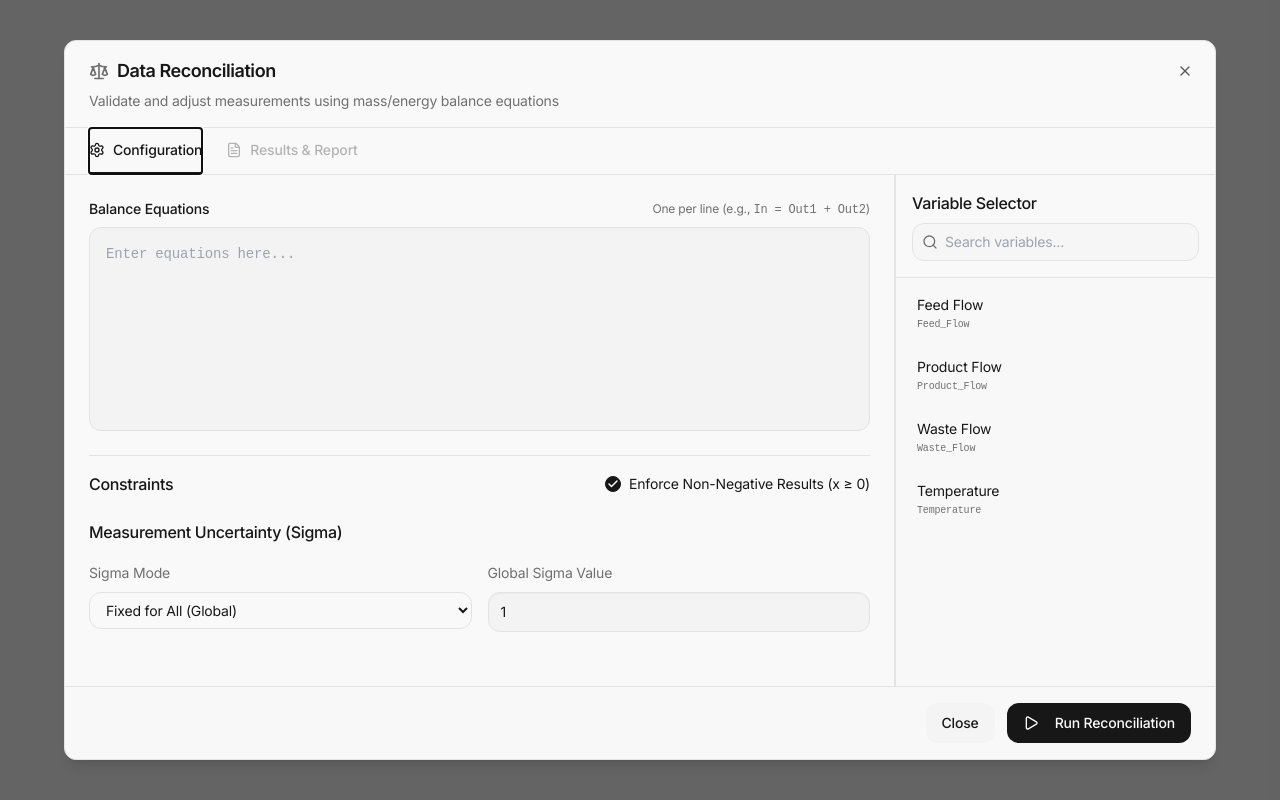
Test: ReconciliationModal › filters variables when using search
Type "Feed" into the field with placeholder "Search variables..." at {"x": 1056, "y": 242}, box [912,223,1199,261]
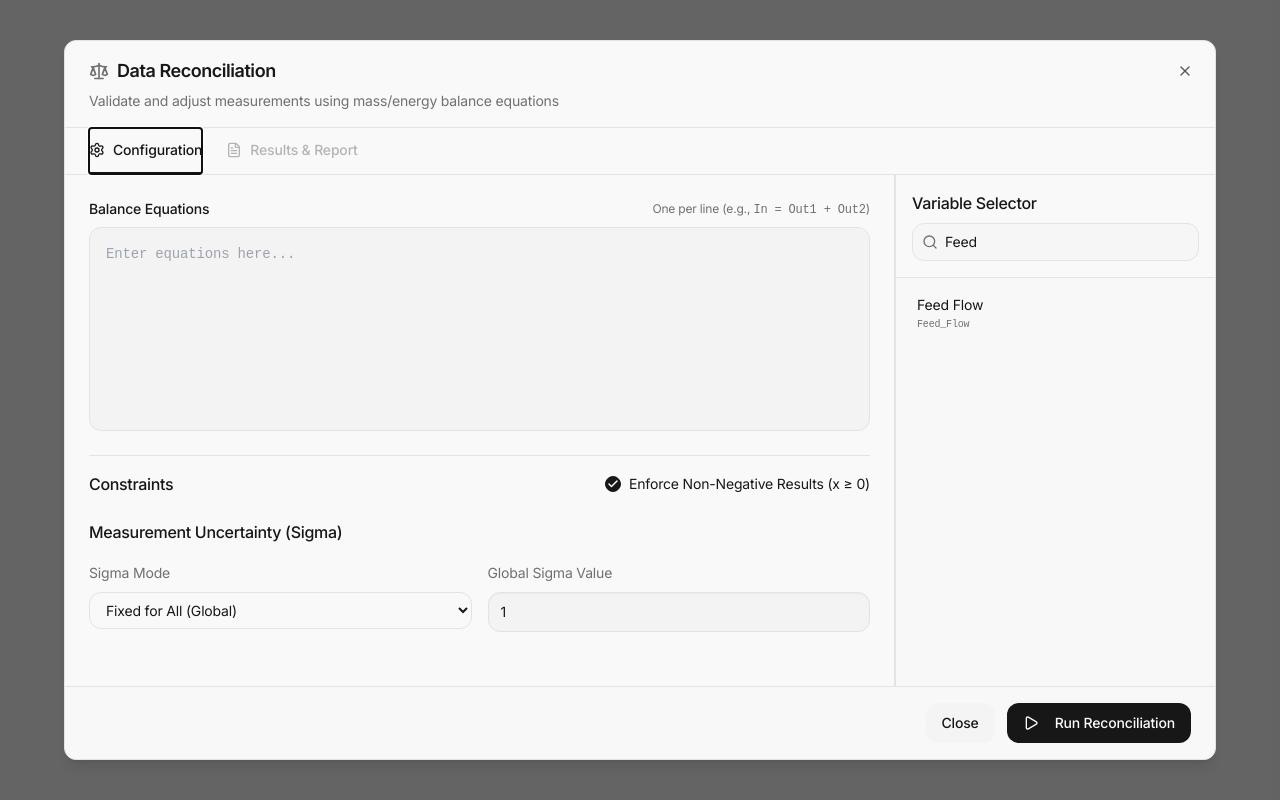
Expected: the text "Feed Flow" is shown, [917,295,983,315]
Result: the button "Temperature" is gone
